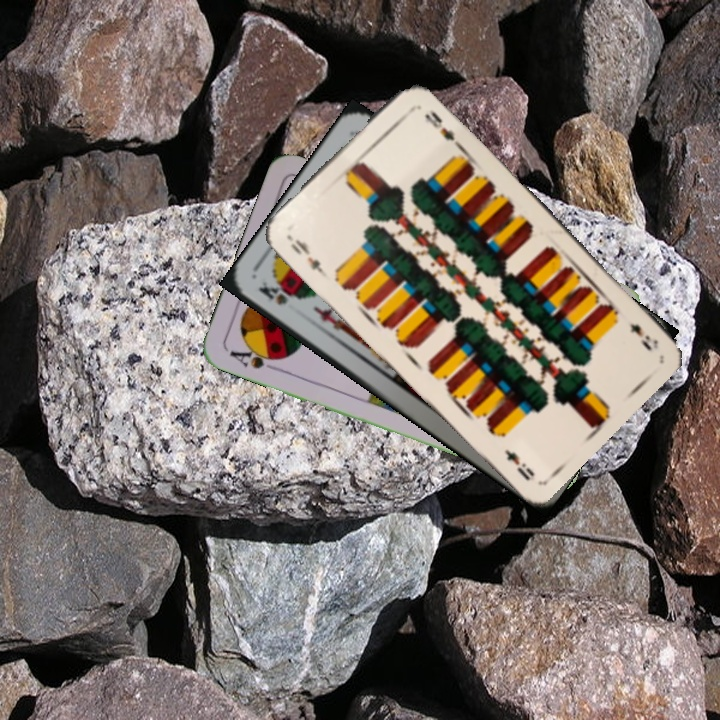E9: (286, 235, 329, 280), (625, 319, 661, 353)
SA: (225, 342, 285, 374)
SK: (254, 277, 296, 308)
